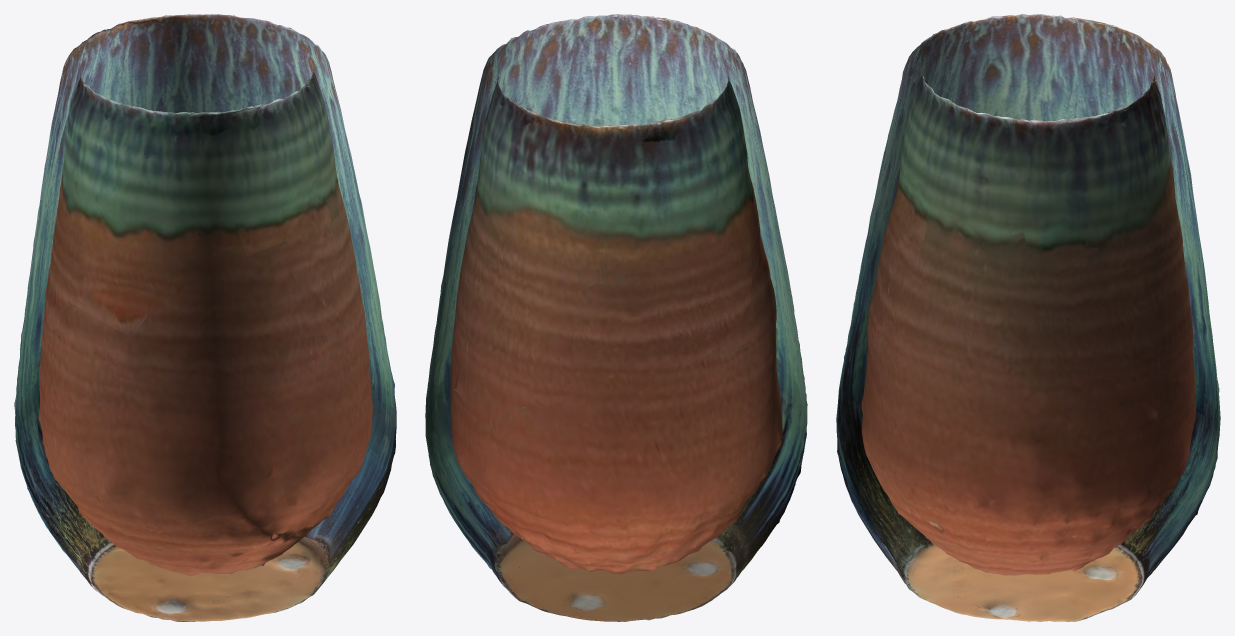
Rendered from bugio.glb.
3 renders of one model, left to right at view 1: azimuth 30°, elevation 25°; view 2: azimuth 150°, elevation 25°; view 3: azimuth 270°, elevation 25°, orthographic.
Parts seen in each view (by area): view 1: Mesh_0.002; view 2: Mesh_0.002; view 3: Mesh_0.002.
Boxes of the visible parts, bbox=[...] form: Mesh_0.002: bbox=[14, 14, 396, 621]; Mesh_0.002: bbox=[425, 14, 807, 621]; Mesh_0.002: bbox=[836, 14, 1220, 621].
Bounding box in the file's own units: 0.1395 × 0.2068 × 0.1401.
Materials: 2 (2 with a texture image).
